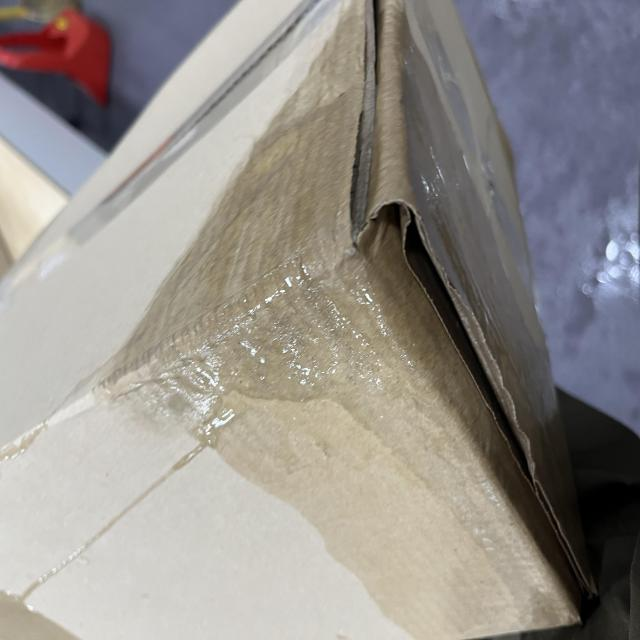wet: (0, 0, 460, 640)
